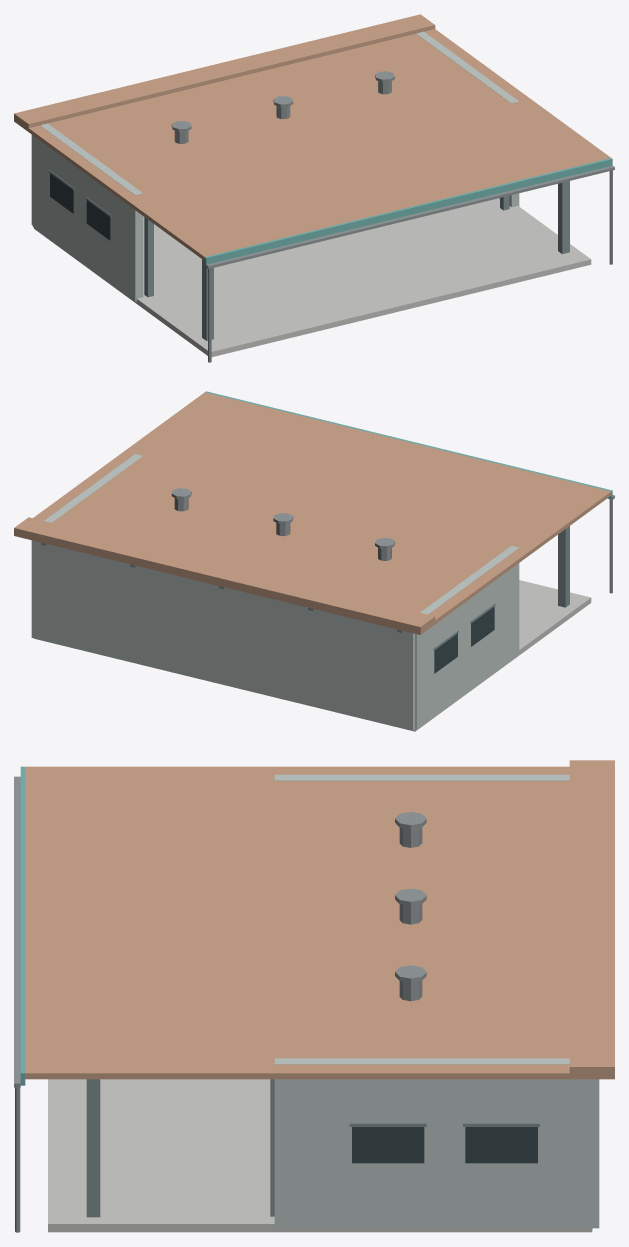
Rendered from isl_workshop.fbx.
3 views of the same model, one above another, from view 1: azimuth 30°, elevation 25°; view 2: azimuth 150°, elevation 25°; view 3: azimuth 270°, elevation 25° (orthographic). The views are drawn at different scales.
Parts seen in each view (by area): view 1: isl_workshop; view 2: isl_workshop; view 3: isl_workshop.
Boxes of the visible parts, <box> form: isl_workshop: <box>14,14,614,362</box>; isl_workshop: <box>14,391,614,731</box>; isl_workshop: <box>14,760,614,1232</box>.
Bounding box in the file's own units: 16 × 4.7 × 13.25.
